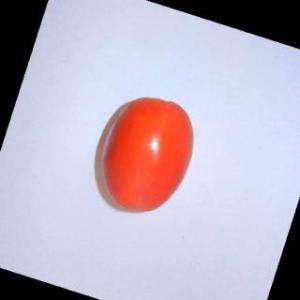tomato: (85, 90, 209, 220)
